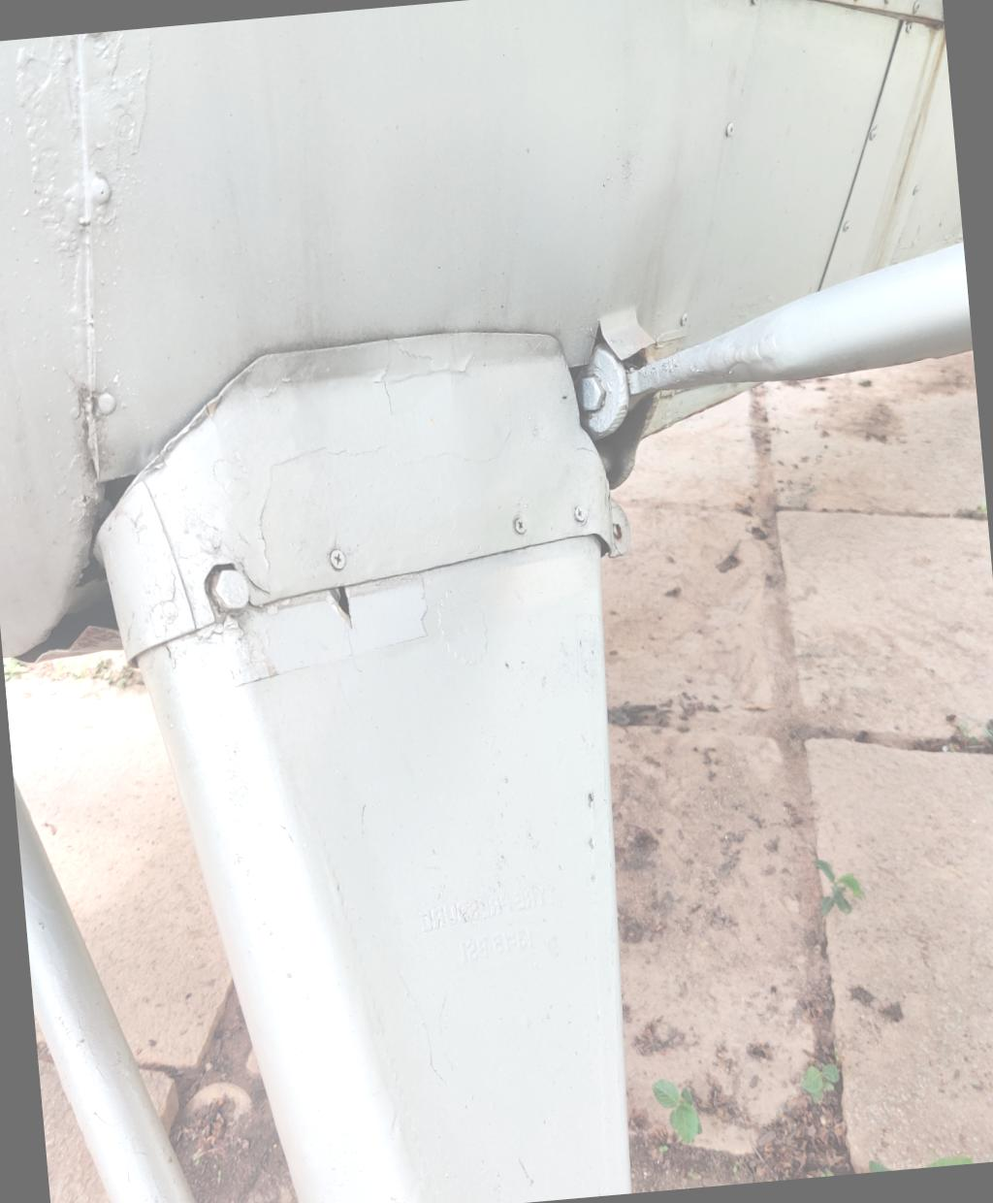crack: (302, 563, 381, 656)
